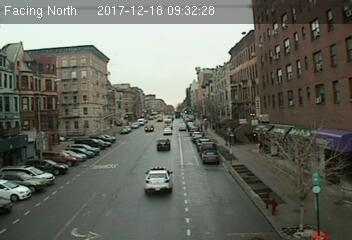car: (201, 150, 218, 162), (156, 137, 170, 150), (144, 124, 154, 132), (163, 127, 171, 135), (177, 124, 186, 131)
police: (143, 166, 174, 193)
